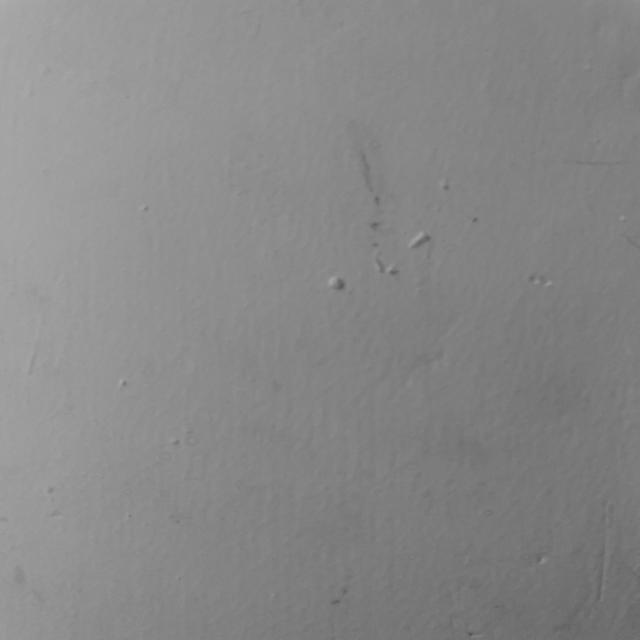rough and patchy surface: (323, 170, 552, 342)
